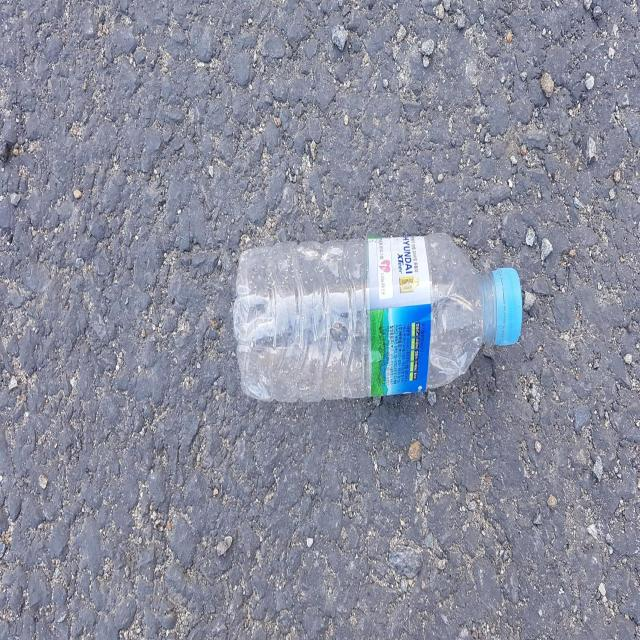plastic: (233, 232, 524, 401)
